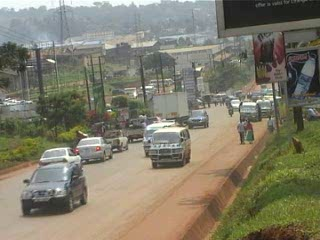Car: (20, 162, 89, 218), (72, 132, 115, 166), (36, 145, 85, 172), (187, 108, 210, 132), (145, 114, 169, 128), (228, 97, 242, 111)
Motorcycle: (225, 103, 235, 118)
